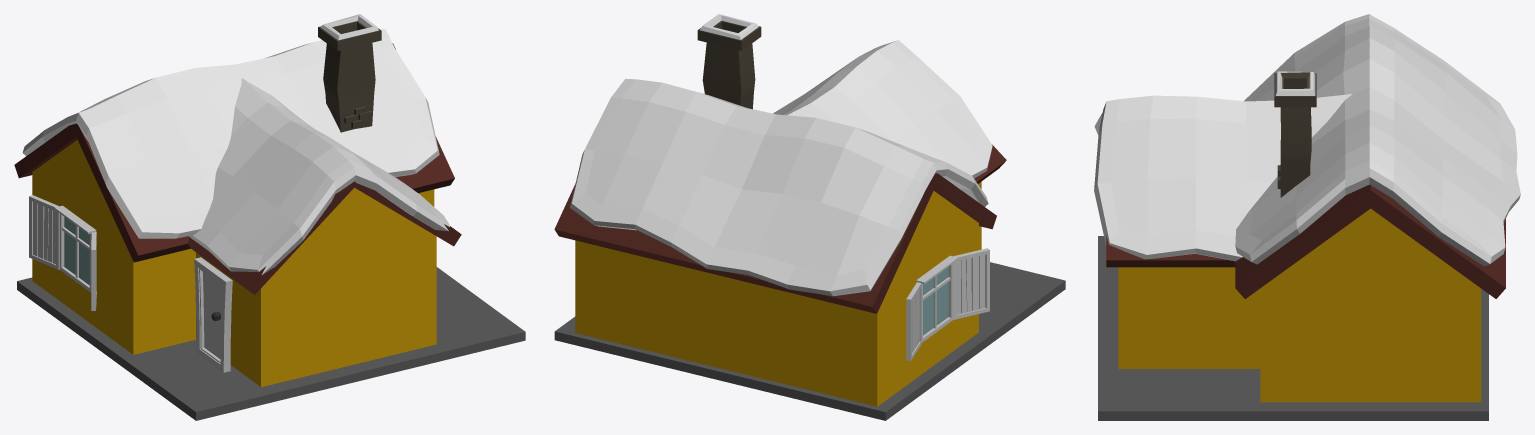
File: House_V02.fbx
3 views of the same model, side by side, from view 1: azimuth 30°, elevation 25°; view 2: azimuth 150°, elevation 25°; view 3: azimuth 270°, elevation 25° (orthographic). The views are drawn at different scales.
Visible parts, largest first — view 1: House_V02; view 2: House_V02; view 3: House_V02.
Boxes of the visible parts, x1=… form: House_V02: x1=14, y1=14, x2=525, y2=420; House_V02: x1=554, y1=14, x2=1065, y2=420; House_V02: x1=1094, y1=14, x2=1520, y2=420.
Size of the model in its own units: 8.76 by 6.58 by 8.62.
